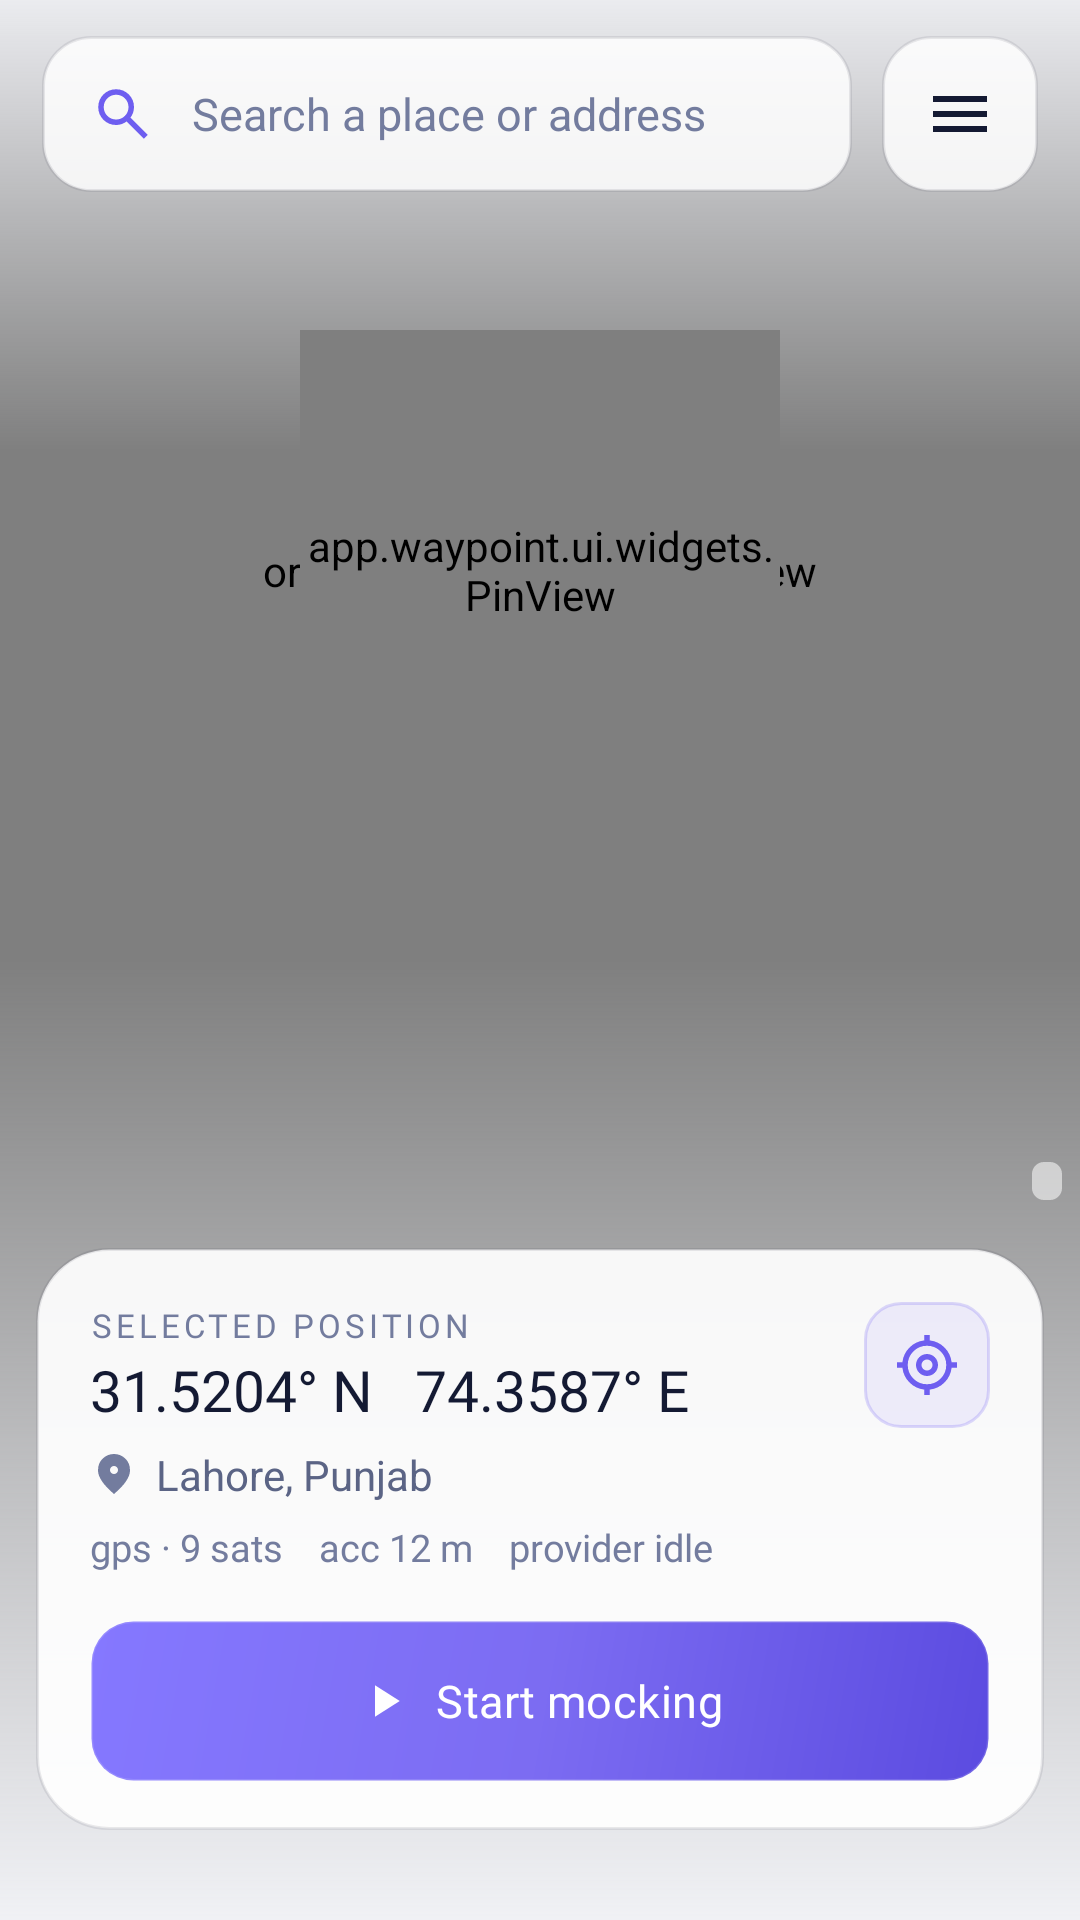

Screen size 1080w x 1920h. Icon name, then its box in pixels as (x1=x1, y1=y1, x2=x2, y2=y2):
location: (x1=897, y1=1335, x2=957, y2=1395)
location on: (x1=98, y1=1454, x2=130, y2=1494)
